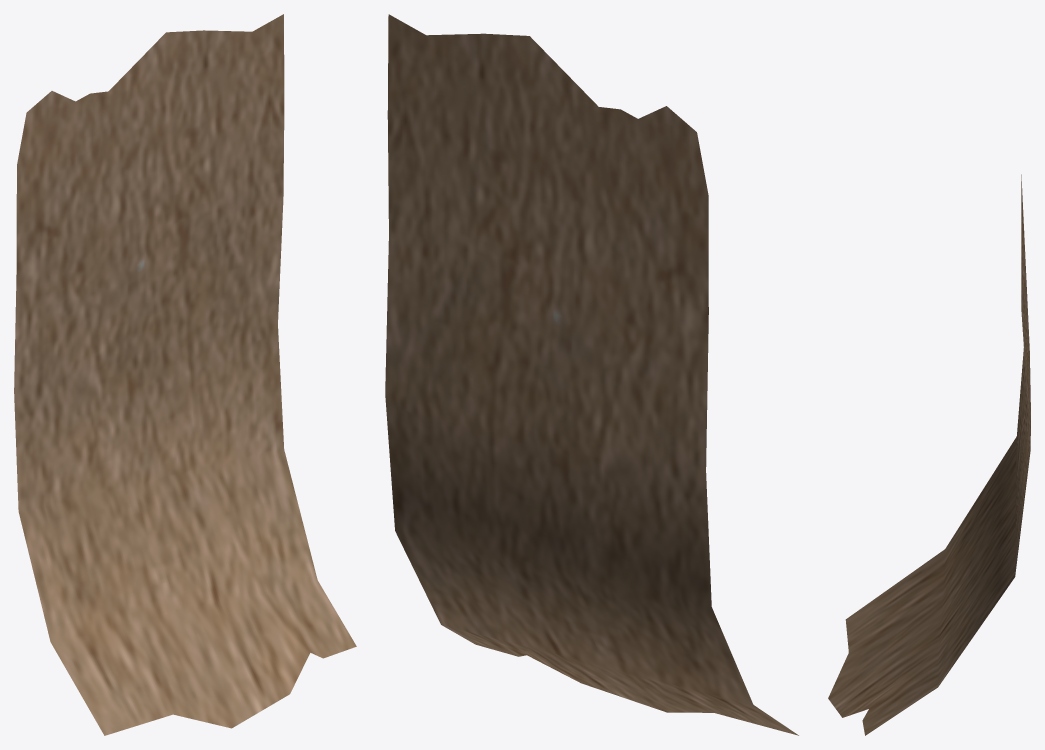
File: SM_Tape.fbx
3 renders of one model, left to right at view 1: azimuth 30°, elevation 25°; view 2: azimuth 150°, elevation 25°; view 3: azimuth 270°, elevation 25°, orthographic. The views are drawn at different scales.
Parts seen in each view (by area): view 1: pPlane22; view 2: pPlane22; view 3: pPlane22.
Part boxes in pixels (left/top/right/bottom): pPlane22: left=14, top=14, right=356, bottom=735; pPlane22: left=385, top=14, right=798, bottom=735; pPlane22: left=828, top=174, right=1030, bottom=735.
Size of the model in its own units: 30.61 by 67.77 by 18.6.
